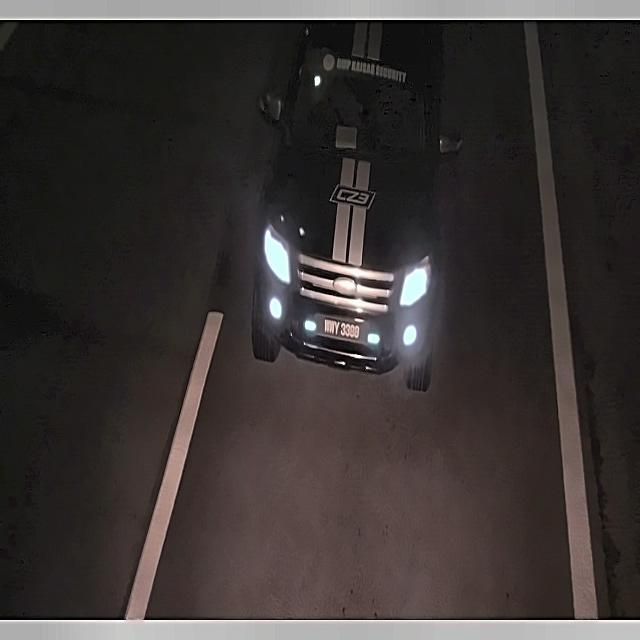car: (319, 312, 364, 345)
